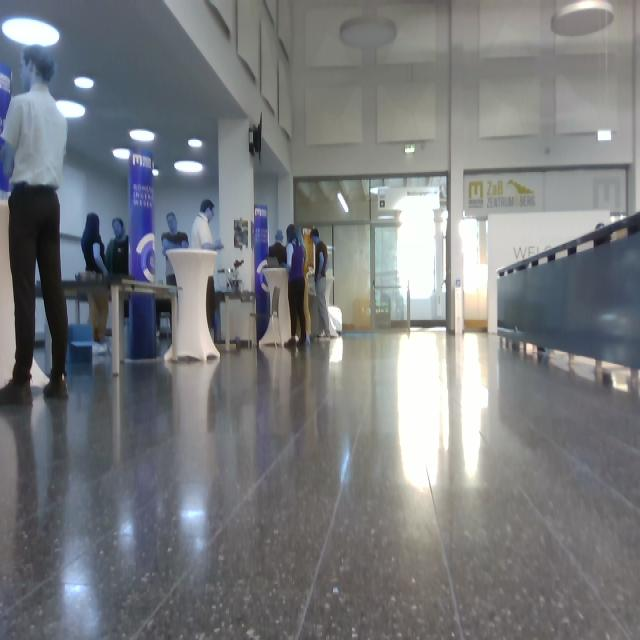door: (333, 224, 373, 332)
light bulb: (551, 1, 615, 37), (340, 16, 397, 49), (2, 17, 60, 48), (56, 100, 86, 120), (459, 219, 478, 243), (174, 160, 204, 173), (130, 129, 155, 142), (74, 76, 95, 90), (337, 192, 349, 213), (113, 148, 131, 160), (188, 138, 203, 148)
person: (1, 45, 69, 401), (81, 213, 110, 354), (286, 224, 308, 346), (311, 229, 332, 338), (269, 230, 287, 268)
staircase: (495, 210, 640, 389)
tiled floor: (1, 325, 639, 638)
